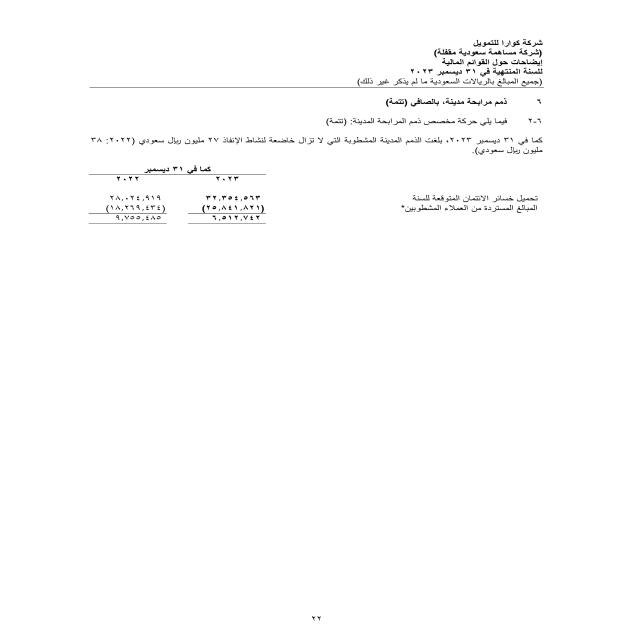notes: (437, 59, 546, 69)
table: (65, 158, 272, 234)
